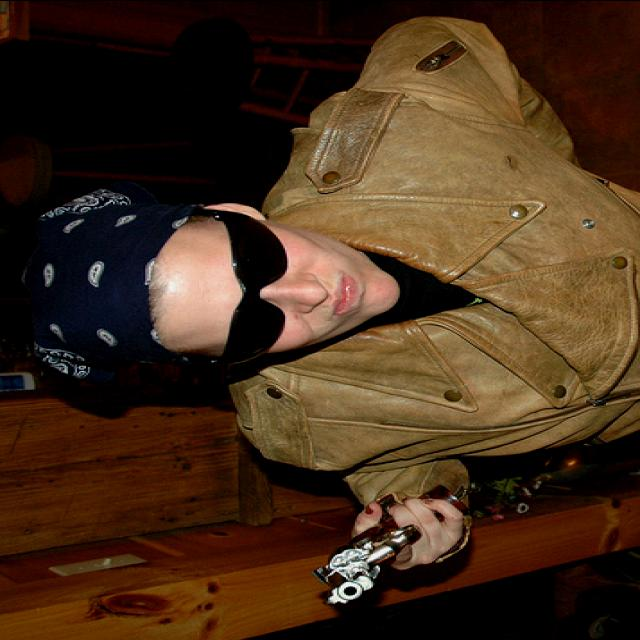handgun: (304, 491, 444, 606)
